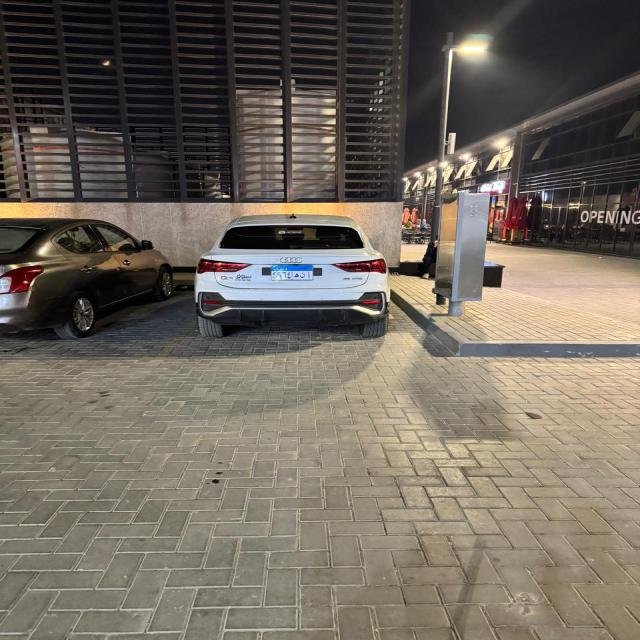car-plate: (272, 266, 312, 280)
